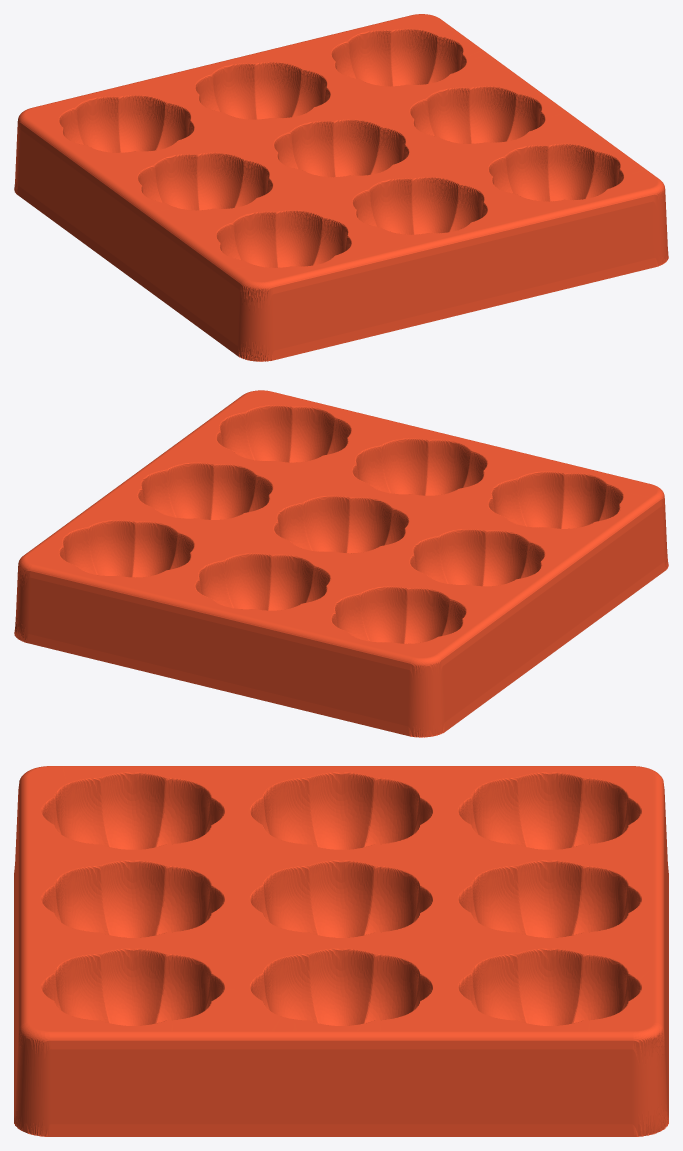
Rendered from mold.glb.
3 renders of one model, top to bottom at view 1: azimuth 30°, elevation 25°; view 2: azimuth 150°, elevation 25°; view 3: azimuth 270°, elevation 25°, orthographic. The views are drawn at different scales.
Visible parts, largest first — view 1: geometry_0; view 2: geometry_0; view 3: geometry_0.
Part boxes in pixels (left/top/right/bottom): geometry_0: left=14, top=14, right=668, bottom=361; geometry_0: left=14, top=390, right=668, bottom=737; geometry_0: left=14, top=766, right=668, bottom=1136.
Bounding box in the file's own units: 0.1621 × 0.0272 × 0.1621.
